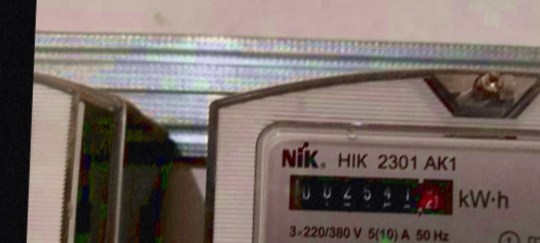0: (299, 180, 313, 201), (320, 179, 333, 200)
1: (401, 180, 413, 203)
2: (340, 178, 355, 201)
4: (381, 179, 393, 200)
5: (360, 179, 374, 203)
6: (423, 197, 435, 209)
screen: (276, 163, 467, 224)
